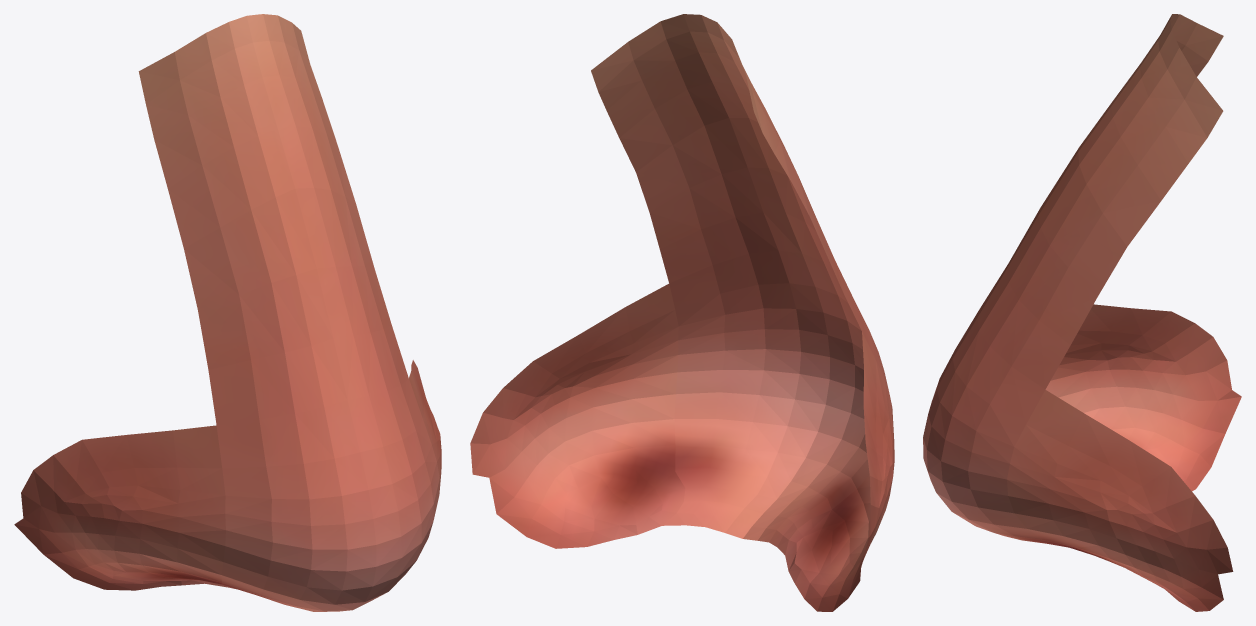
Rendered from euro-nose-sellion-up.obj.
3 renders of one model, left to right at view 1: azimuth 30°, elevation 25°; view 2: azimuth 150°, elevation 25°; view 3: azimuth 270°, elevation 25°, orthographic. The views are drawn at different scales.
Visible parts, largest first — view 1: euro-nose-sellion-up.001; view 2: euro-nose-sellion-up.001; view 3: euro-nose-sellion-up.001.
Part boxes in pixels (bbox=[...]): euro-nose-sellion-up.001: bbox=[14, 14, 441, 611]; euro-nose-sellion-up.001: bbox=[470, 14, 894, 611]; euro-nose-sellion-up.001: bbox=[923, 14, 1241, 611].
Bounding box in the file's own units: 0.2587 × 0.3456 × 0.1881.
1 material, 1 textured.
